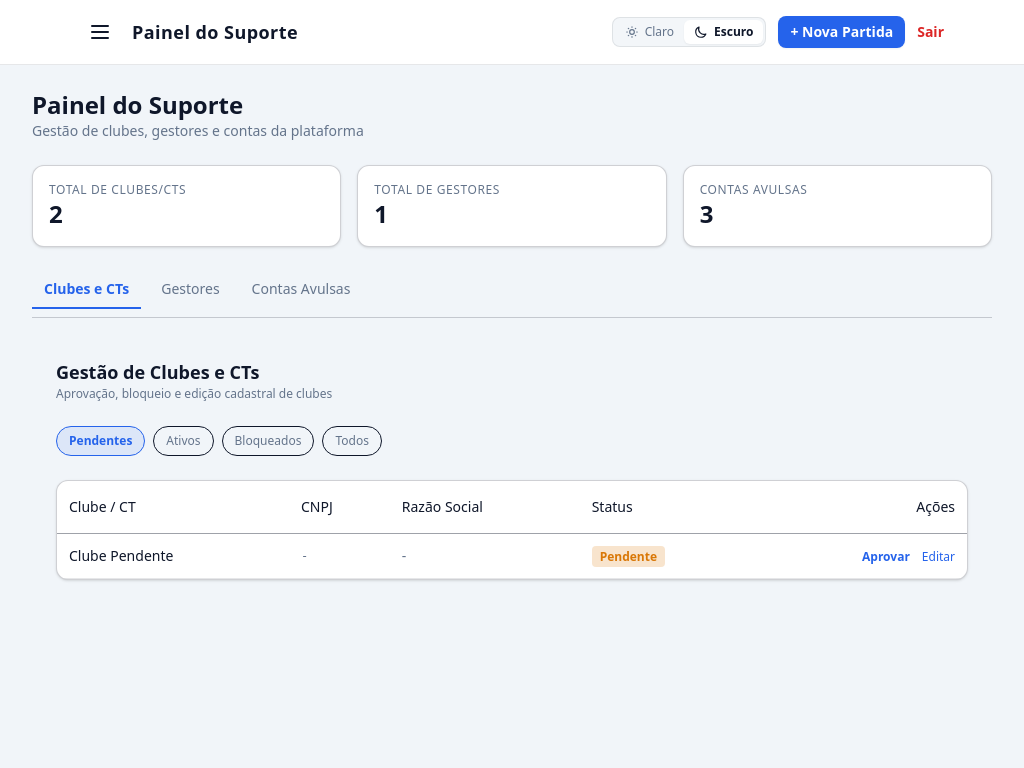
SuportePageContent (página do Painel do Suporte) › troca para a aba Gestores ao clicar
Click the button "Gestores". click: x=190, y=290
box: top-left (149, 271), bottom-right (232, 309)
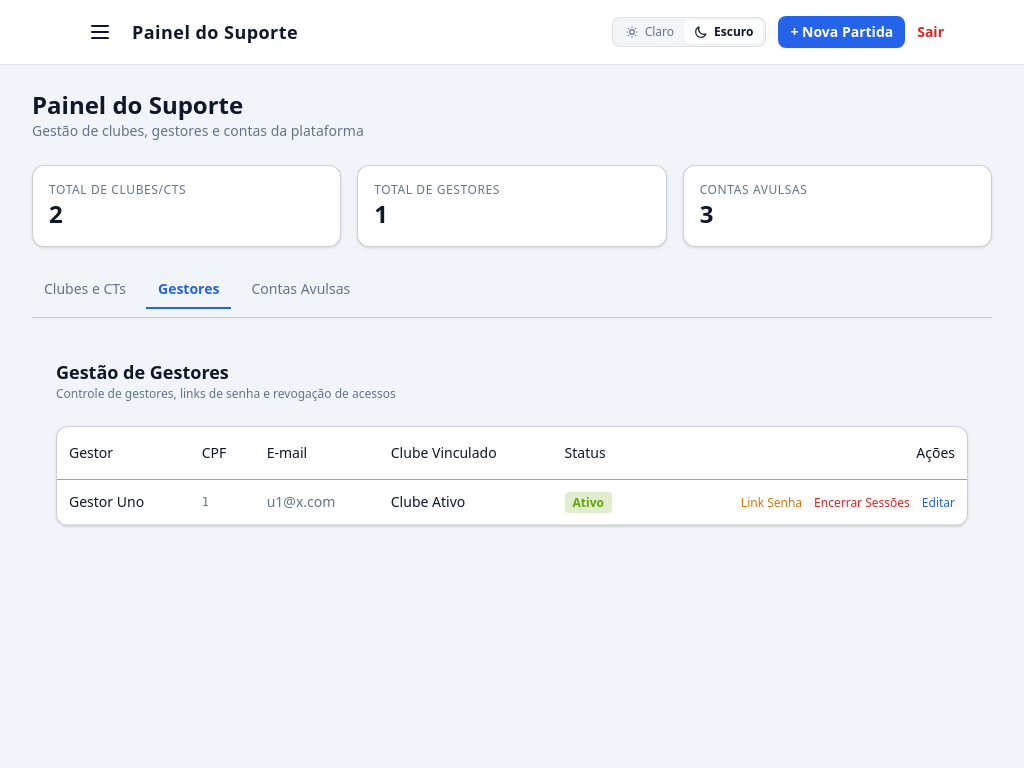
expect the heading "Gestão de Gestores" is shown: met, box top-left (56, 360), bottom-right (229, 384)
expect the heading "Gestão de Clubes e CTs" is gone: met
